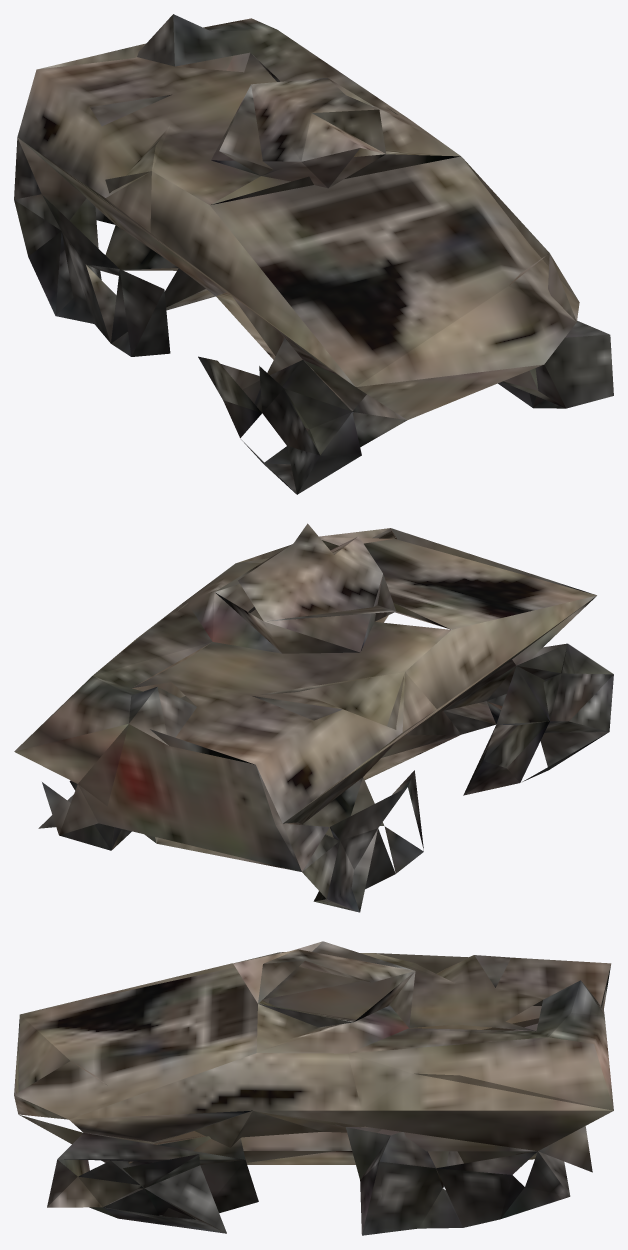
The model's file is apc_1599468211_lod1.glb.
The picture shows the model from 3 angles, top to bottom: view 1: azimuth 30°, elevation 25°; view 2: azimuth 150°, elevation 25°; view 3: azimuth 270°, elevation 25°; orthographic projection. The views are drawn at different scales.
Size of the model in its own units: 3.84 by 3.07 by 7.31.
Materials: 1 (1 with a texture image).
